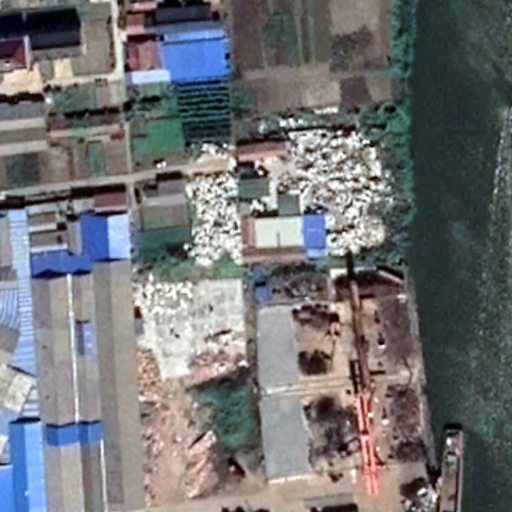msw: (281, 123, 391, 255), (184, 167, 243, 264)
